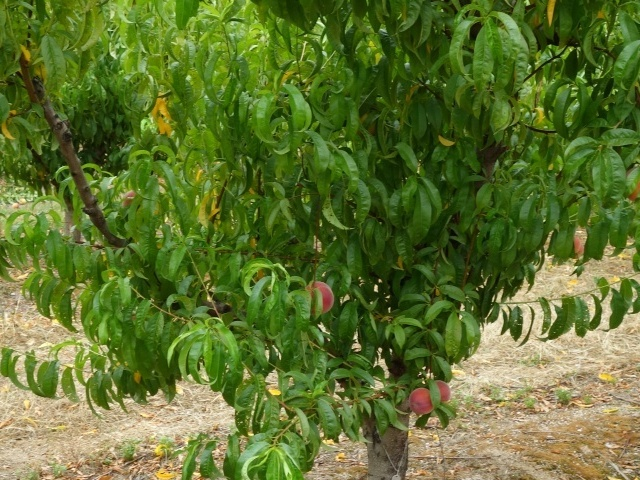peach: (303, 279, 336, 316), (405, 385, 436, 417), (425, 375, 453, 404), (118, 187, 142, 214)
